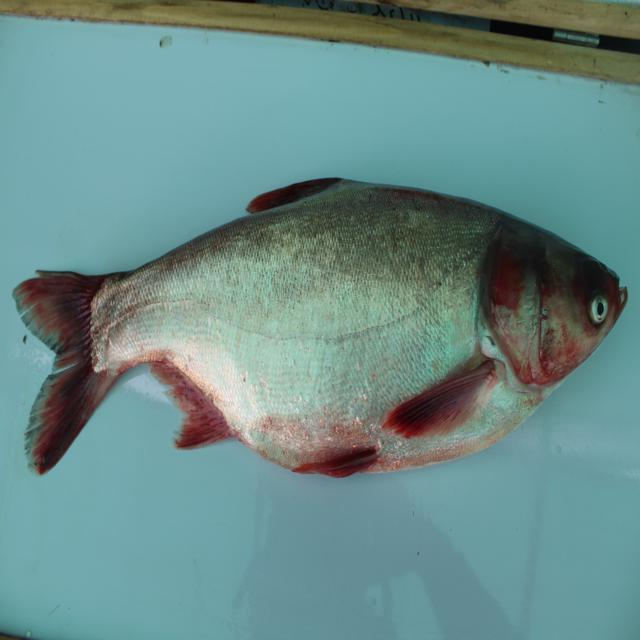SilverCarp: (21, 185, 640, 499)
